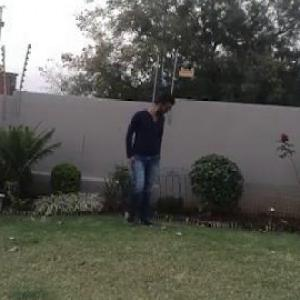follow: (121, 88, 168, 231)
